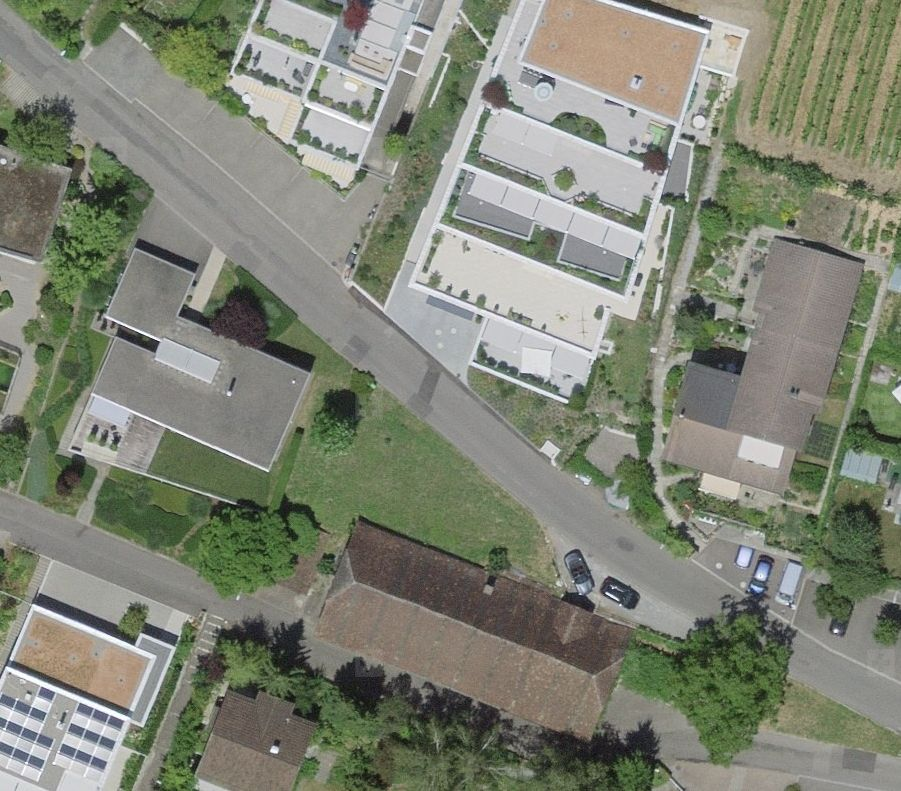solar: (1, 687, 123, 783)
